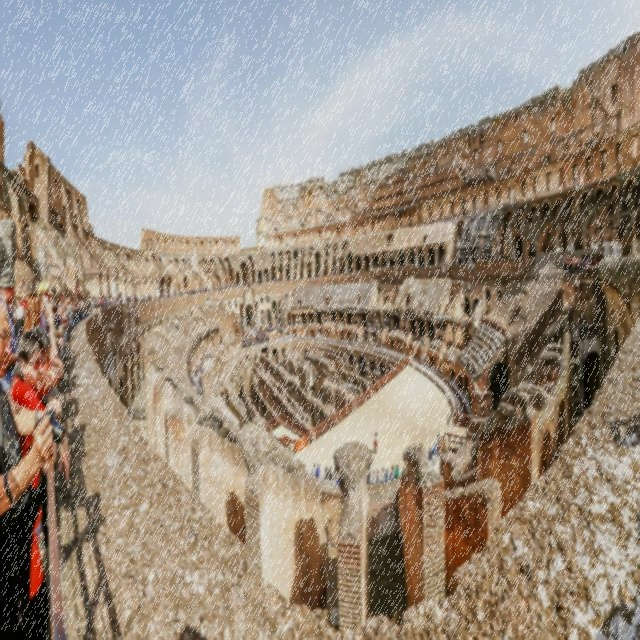pessoa: (0, 298, 67, 640), (8, 327, 70, 490), (57, 338, 87, 490), (57, 493, 105, 564), (30, 324, 65, 398), (0, 268, 20, 392), (23, 291, 58, 358), (562, 252, 604, 282), (610, 410, 640, 452), (58, 290, 90, 324), (12, 290, 26, 346), (36, 280, 50, 334), (189, 352, 204, 396), (238, 329, 268, 346), (90, 292, 124, 306), (204, 378, 226, 396), (16, 292, 28, 322), (124, 290, 153, 302), (216, 280, 250, 290), (177, 286, 216, 294), (48, 284, 59, 311), (363, 325, 377, 340), (250, 278, 282, 284), (268, 321, 282, 334), (372, 430, 378, 456), (55, 327, 69, 338), (54, 322, 77, 328), (333, 266, 350, 274), (44, 312, 50, 334), (334, 468, 341, 486), (20, 292, 27, 309), (163, 290, 177, 298), (366, 468, 372, 486), (380, 466, 386, 484), (390, 464, 396, 482), (394, 463, 400, 481), (8, 301, 16, 314), (371, 470, 376, 490), (323, 464, 329, 480), (310, 462, 316, 477), (375, 468, 380, 486), (328, 465, 333, 482), (384, 466, 389, 483), (206, 348, 213, 360), (130, 402, 135, 418), (52, 310, 58, 322), (354, 328, 361, 338), (437, 429, 440, 452), (316, 462, 320, 479), (432, 441, 436, 456), (428, 447, 432, 461), (386, 314, 390, 325), (412, 332, 416, 342), (128, 404, 130, 416), (532, 254, 534, 265), (358, 321, 361, 327), (210, 371, 212, 380), (412, 262, 416, 266), (396, 326, 398, 331), (64, 338, 66, 342)
